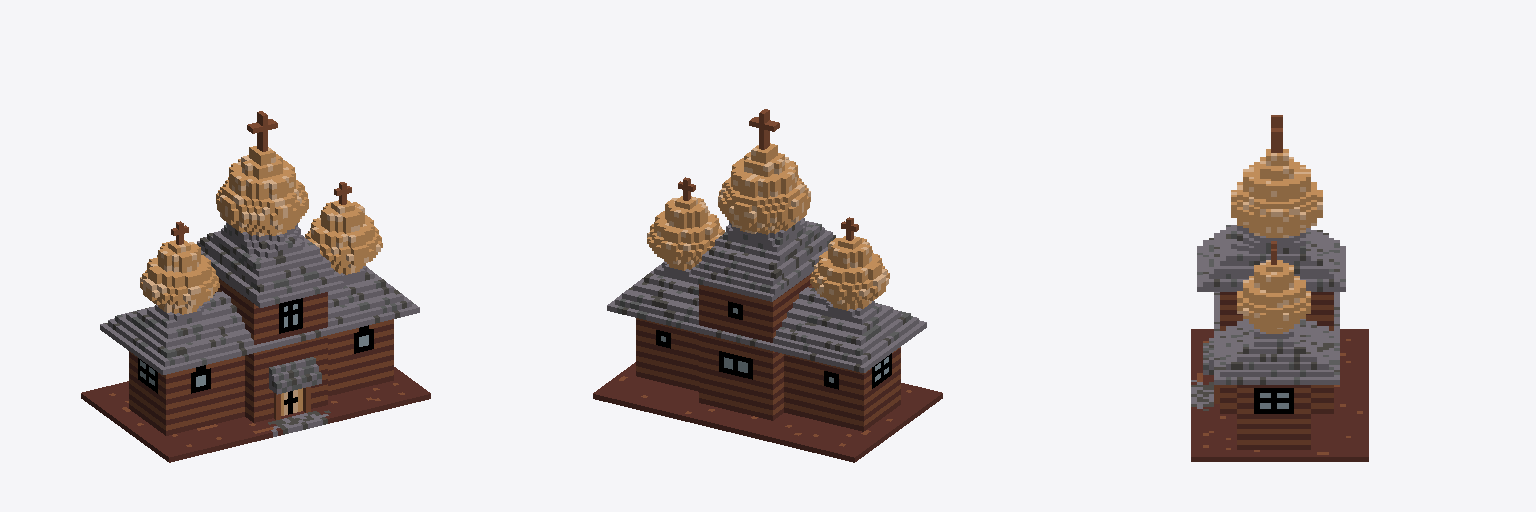
The picture shows the model from 3 angles: view 1: azimuth 30°, elevation 25°; view 2: azimuth 150°, elevation 25°; view 3: azimuth 270°, elevation 25°; orthographic projection.
Visible parts, largest first — view 1: object 1; view 2: object 1; view 3: object 1.
Boxes of the visible parts, x1=… form: object 1: x1=81, y1=111, x2=430, y2=462; object 1: x1=593, y1=109, x2=942, y2=462; object 1: x1=1191, y1=115, x2=1368, y2=461.
Bounding box in the file's own units: 5.3 × 5.5 × 3.1.
Materials: 1 (1 with a texture image).